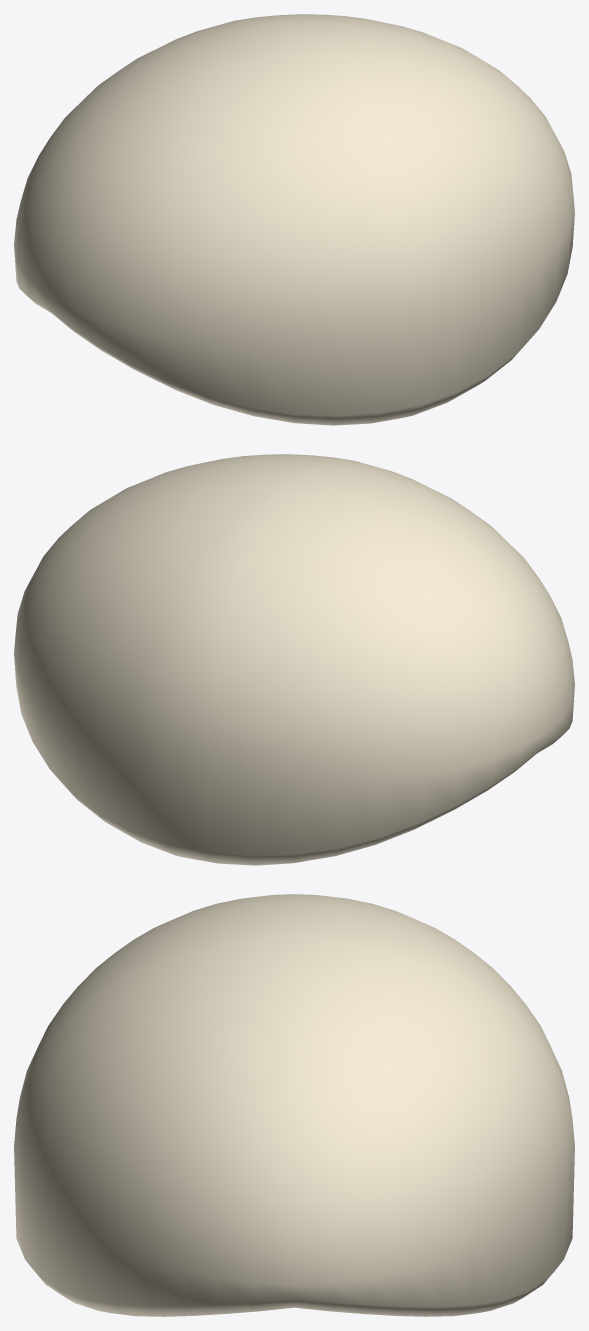
File: cowrie_a5.glb
The picture shows the model from 3 angles, top to bottom: view 1: azimuth 30°, elevation 25°; view 2: azimuth 150°, elevation 25°; view 3: azimuth 270°, elevation 25°; orthographic projection. The views are drawn at different scales.
Visible parts, largest first — view 1: cowrie_a5; view 2: cowrie_a5; view 3: cowrie_a5.
Part boxes in pixels (x1=…): cowrie_a5: x1=14, y1=14, x2=574, y2=425; cowrie_a5: x1=14, y1=454, x2=574, y2=865; cowrie_a5: x1=14, y1=894, x2=574, y2=1316.
Size of the model in its own units: 0.0231 by 0.0132 by 0.0198.
